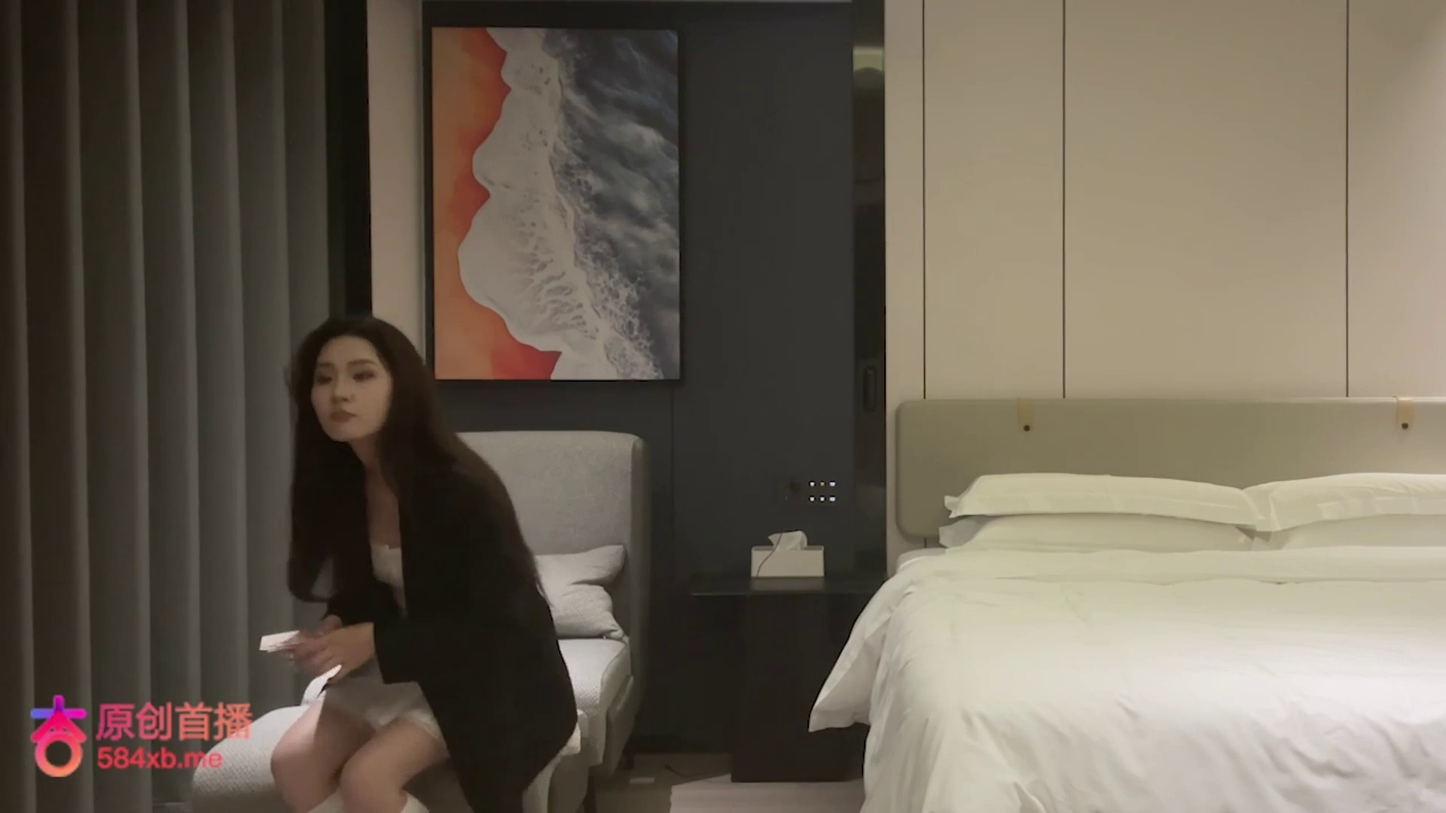sit: (265, 315, 580, 810)
